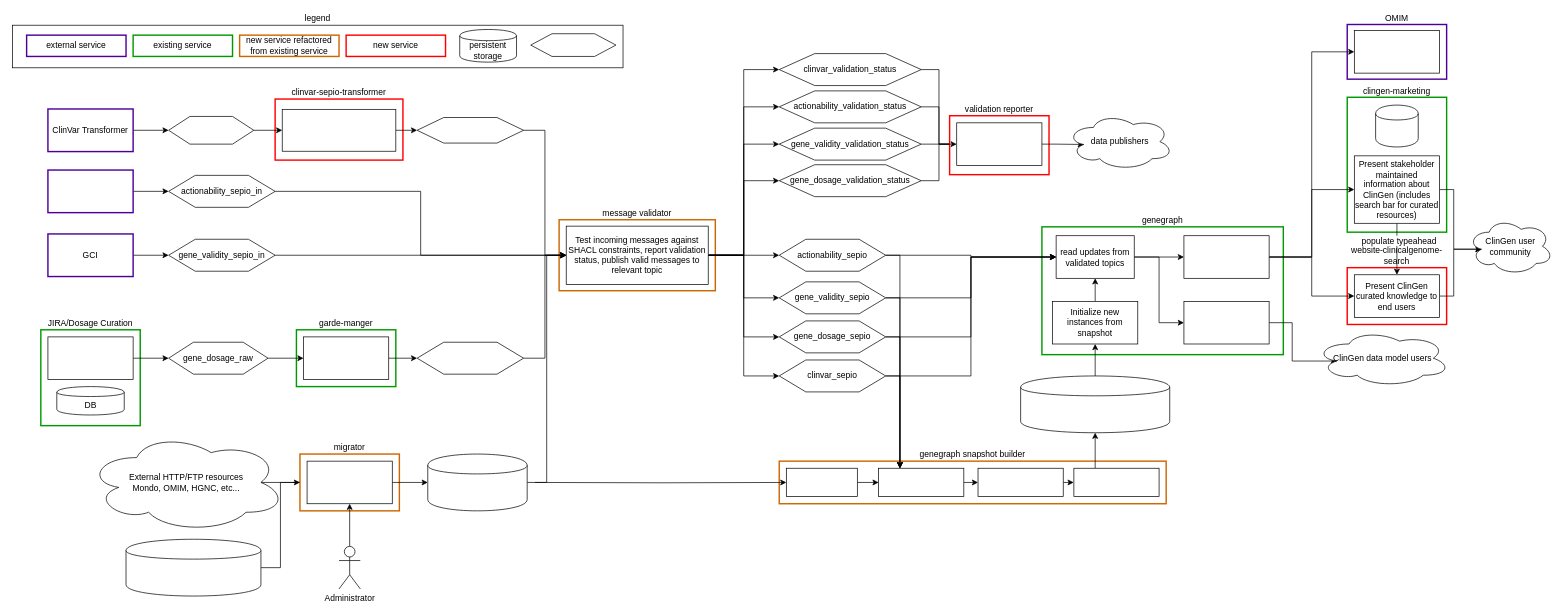
The diagram is 1566 pixels wide and 616 high, and some of its shapes have lost their labels. Each missing label, with the centre of its shape:
"ACI" belongs at point (90, 191).
"ClinGen data model GitHub" belongs at point (193, 567).
"clinvar_raw" belongs at point (211, 130).
"clinvar_sepio_in" belongs at point (470, 130).
"GCS Base Data Bucket" belongs at point (477, 482).
"GCS genegraph snapshot bucket" belongs at point (1095, 404).
"gene_dosage_sepio_in" belongs at point (470, 358).
"intake topic messages up to current state" belongs at point (921, 482).
"Kafka topic" belongs at point (573, 44).
"MariaDB" belongs at point (1396, 125).
"Present data model documentation" belongs at point (1226, 322).
"publish GraphQL API" belongs at point (1226, 256).
"publish snapshot with validation errors and warnings" belongs at point (1116, 482).
"Push curation updates to Kafka" belongs at point (90, 357).
"Read base data" belongs at point (821, 482).
"Read base data for genegraph and store in GCS" belongs at point (349, 482).
"Report validation status to external services (Slack, email, etc)" belongs at point (999, 143).
"Retrieve list of conditions about which ClinGen has information" belongs at point (1397, 51).
"Transform curations into SEPIO format" belongs at point (346, 357).
"Transform raw ClinVar messages into SEPIO format" belongs at point (339, 130).
"validate messages given base state" belongs at point (1020, 482).
